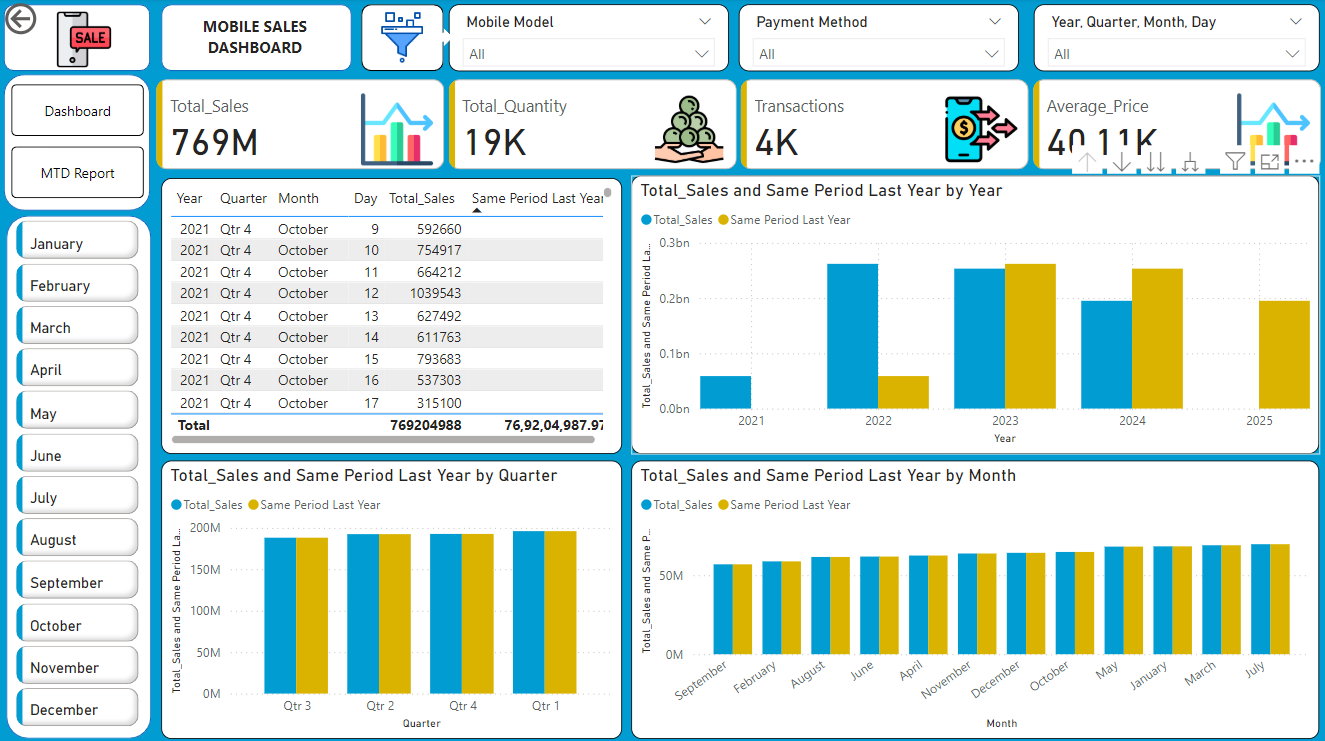

The dashboard page shown, as its layout file describes it:
{"tool":"powerbi","page":{"name":"Same Period Last Year","canvas":[1280,720],"ordinal":2},"visuals":[{"type":"shape","box":[4.1,5.5,141.3,64.5],"z":0},{"type":"shape","box":[4.1,74.1,141.3,131.7],"z":1000},{"type":"cardVisual","fields":{"Data":["Sales_Data.Total_Sales","Sales_Data.Total_Quantity","Sales_Data.Transactions","Sales_Data.Average_Price"]},"box":[145.5,74.1,1134.8,97.4],"z":2000},{"type":"slicer","fields":{"Values":["Sales_Data.Mobile Model"]},"box":[433.6,5.5,270.3,64.5],"z":3000},{"type":"shape","box":[348.5,5.5,79.6,64.5],"z":4000},{"type":"slicer","fields":{"Values":["Sales_Data.Payment Method"]},"box":[713.6,5.5,270.3,64.5],"z":5000},{"type":"slicer","fields":{"Values":["Custon_Calandar.Date.Variation.Date Hierarchy.Year","Custon_Calandar.Date.Variation.Date Hierarchy.Quarter","Custon_Calandar.Date.Variation.Date Hierarchy.Month","Custon_Calandar.Date.Variation.Date Hierarchy.Day"]},"box":[997.6,5.5,275.8,64.5],"z":6000},{"type":"image","box":[321.1,8.2,134.5,59],"z":7000},{"type":"shape","box":[414.4,28.8,23.3,17.8],"z":8000},{"type":"shape","box":[155.1,5.5,183.9,64.5],"z":9000},{"type":"textbox","box":[171.5,12.3,149.6,52.1],"z":10000},{"type":"actionButton","box":[0,0,100,40],"z":11000},{"type":"shape","box":[5.5,209.9,140,505],"z":12000},{"type":"advancedSlicerVisual","fields":{"Values":["Custon_Calandar.Date.Variation.Date Hierarchy.Month"]},"box":[11,209.9,129,500.9],"z":13000},{"type":"tableEx","fields":{"Values":["Custon_Calandar.Date.Variation.Date Hierarchy.Year","Custon_Calandar.Date.Variation.Date Hierarchy.Quarter","Custon_Calandar.Date.Variation.Date Hierarchy.Month","Custon_Calandar.Date.Variation.Date Hierarchy.Day","Sales_Data.Total_Sales","Sales_Data.Same Period Last Year"]},"box":[155.1,174.3,444.6,266.2],"z":14000},{"type":"clusteredColumnChart","fields":{"Category":["Custon_Calandar.Date.Variation.Date Hierarchy.Year","Custon_Calandar.Date.Variation.Date Hierarchy.Quarter","Custon_Calandar.Date.Variation.Date Hierarchy.Month","Custon_Calandar.Date.Variation.Date Hierarchy.Day"],"Y":["Sales_Data.Total_Sales","Sales_Data.Same Period Last Year"]},"box":[609.3,171.5,664.2,269],"z":15000},{"type":"clusteredColumnChart","fields":{"Category":["Custon_Calandar.Date.Variation.Date Hierarchy.Year","Custon_Calandar.Date.Variation.Date Hierarchy.Quarter","Custon_Calandar.Date.Variation.Date Hierarchy.Month","Custon_Calandar.Date.Variation.Date Hierarchy.Day"],"Y":["Sales_Data.Total_Sales","Sales_Data.Same Period Last Year"]},"box":[155.1,446,444.6,269],"z":15001},{"type":"clusteredColumnChart","fields":{"Category":["Custon_Calandar.Date.Variation.Date Hierarchy.Year","Custon_Calandar.Date.Variation.Date Hierarchy.Quarter","Custon_Calandar.Date.Variation.Date Hierarchy.Month","Custon_Calandar.Date.Variation.Date Hierarchy.Day"],"Y":["Sales_Data.Total_Sales","Sales_Data.Same Period Last Year"]},"box":[609.3,446,664.2,269],"z":15002},{"type":"pageNavigator","box":[11,83.7,129,111.1],"z":15003},{"type":"image","box":[49.4,8.2,63.1,63.1],"z":15004}]}

Visuals, with their boxes in screenshot pixels (x1, y1, x2, y2), scaled from the page's 1280x720 canvas onto the 1325x741 screenshot:
shape: [x1=4, y1=6, x2=151, y2=72]
shape: [x1=4, y1=76, x2=151, y2=212]
cardVisual - Sales_Data.Total_Sales x Sales_Data.Total_Quantity: [x1=151, y1=76, x2=1324, y2=177]
slicer - Sales_Data.Mobile Model: [x1=449, y1=6, x2=729, y2=72]
shape: [x1=361, y1=6, x2=443, y2=72]
slicer - Sales_Data.Payment Method: [x1=739, y1=6, x2=1018, y2=72]
slicer - Custon_Calandar.Date.Variation.Date Hierarchy.Year x Custon_Calandar.Date.Variation.Date Hierarchy.Quarter: [x1=1033, y1=6, x2=1318, y2=72]
image: [x1=332, y1=8, x2=472, y2=69]
shape: [x1=429, y1=30, x2=453, y2=48]
shape: [x1=161, y1=6, x2=351, y2=72]
textbox: [x1=178, y1=13, x2=332, y2=66]
actionButton: [x1=0, y1=0, x2=104, y2=41]
shape: [x1=6, y1=216, x2=151, y2=736]
advancedSlicerVisual - Custon_Calandar.Date.Variation.Date Hierarchy.Month: [x1=11, y1=216, x2=145, y2=732]
tableEx - Custon_Calandar.Date.Variation.Date Hierarchy.Year x Custon_Calandar.Date.Variation.Date Hierarchy.Quarter: [x1=161, y1=179, x2=621, y2=453]
clusteredColumnChart - Custon_Calandar.Date.Variation.Date Hierarchy.Year x Custon_Calandar.Date.Variation.Date Hierarchy.Quarter: [x1=631, y1=177, x2=1318, y2=453]
clusteredColumnChart - Custon_Calandar.Date.Variation.Date Hierarchy.Year x Custon_Calandar.Date.Variation.Date Hierarchy.Quarter: [x1=161, y1=459, x2=621, y2=736]
clusteredColumnChart - Custon_Calandar.Date.Variation.Date Hierarchy.Year x Custon_Calandar.Date.Variation.Date Hierarchy.Quarter: [x1=631, y1=459, x2=1318, y2=736]
pageNavigator: [x1=11, y1=86, x2=145, y2=200]
image: [x1=51, y1=8, x2=116, y2=73]
